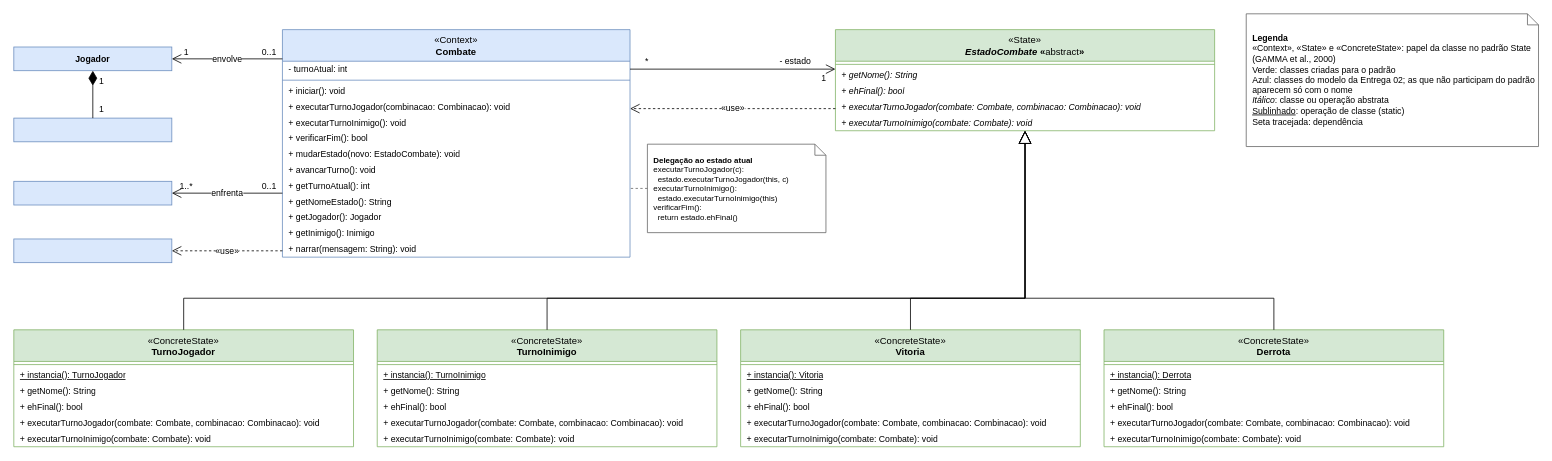
The diagram is 1552 pixels wide and 461 high, and some of its shapes have lost their labels. The centre of each missing label's shape, as x and y in pixels:
Combinacao: (x=92, y=250)
DiarioAventureiro: (x=92, y=129)
Inimigo: (x=92, y=193)
